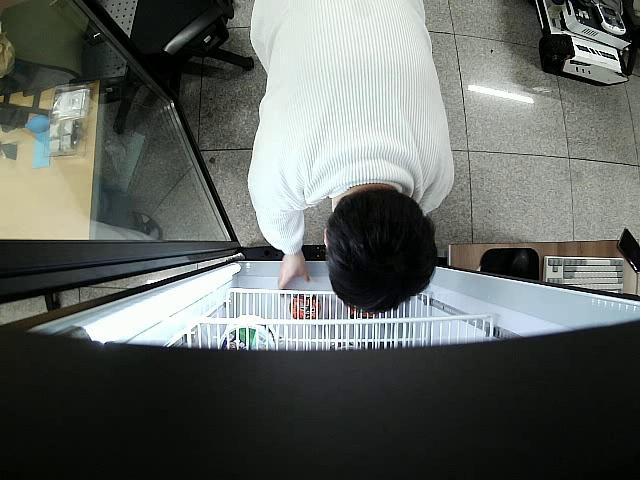00_hand: (278, 251, 311, 297)
